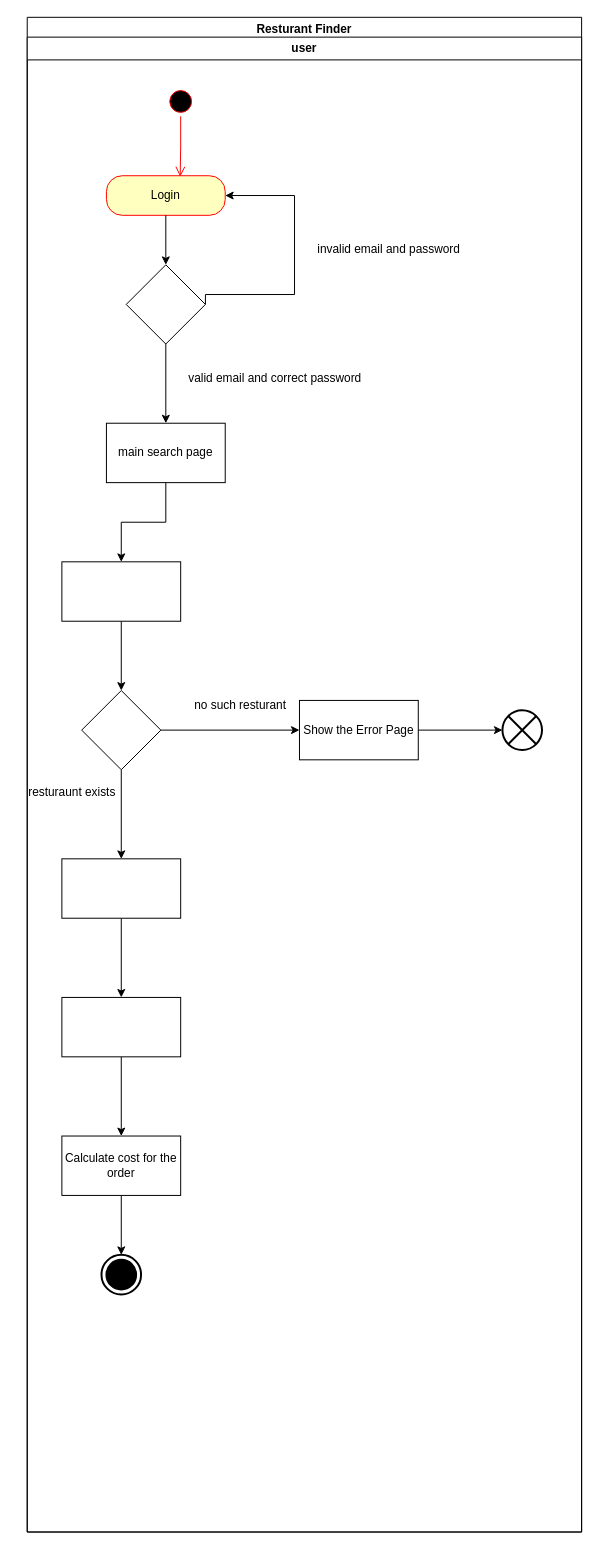
The diagram is 599 pixels wide and 1549 high, and some of its shapes have lost their labels. The shapes that lost their labels are listed below. From the top down, each one's box as (x1, y1, x2, y2) in pixels, then its label:
(61, 561, 181, 621): Search for a Resturant
(61, 858, 181, 918): see details about the restaurant
(61, 996, 181, 1057): View Menu
